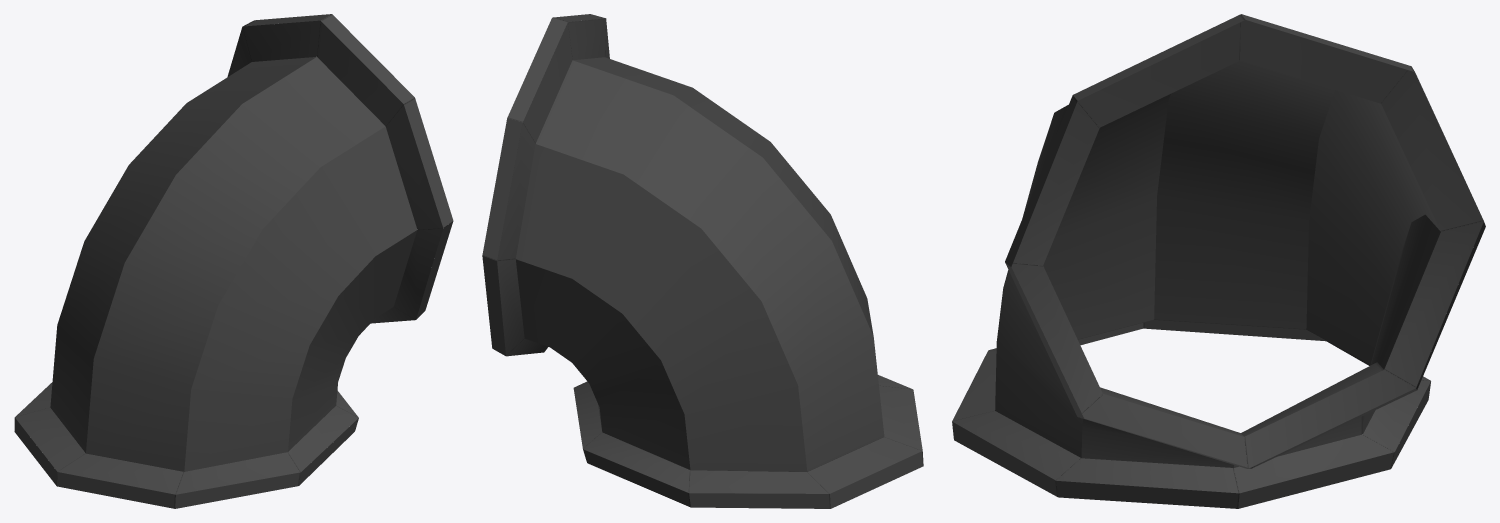
Rendered from Pipe 2 Textured.fbx.
3 views of the same model, side by side, from view 1: azimuth 30°, elevation 25°; view 2: azimuth 150°, elevation 25°; view 3: azimuth 270°, elevation 25° (orthographic). The views are drawn at different scales.
Parts seen in each view (by area): view 1: pCylinder1; view 2: pCylinder1; view 3: pCylinder1.
Boxes of the visible parts, bbox=[...] form: pCylinder1: bbox=[14, 14, 453, 508]; pCylinder1: bbox=[482, 14, 923, 508]; pCylinder1: bbox=[952, 14, 1485, 508].
Size of the model in its own units: 2.82 by 2.85 by 2.63.
Materials: 1 (1 with a texture image).
